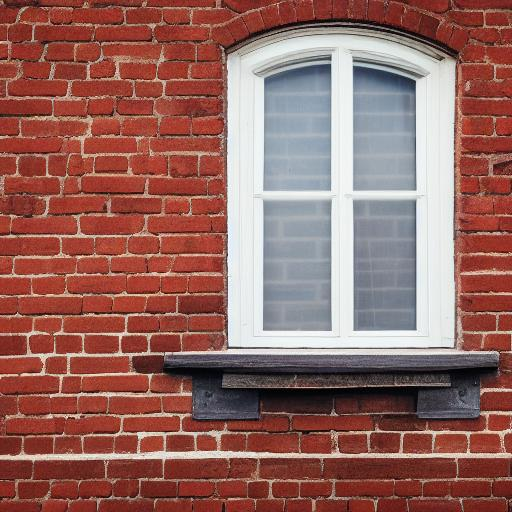Window: (159, 5, 502, 424)
